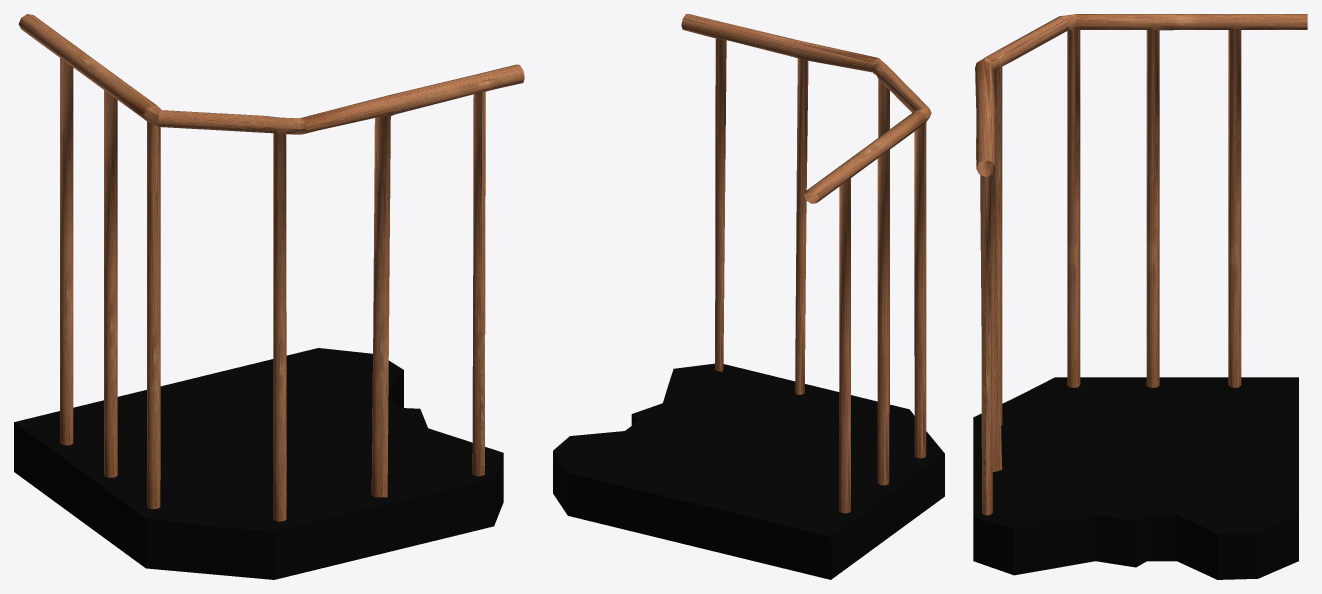
Rendered from balconIzquierdo.FBX.
The picture shows the model from 3 angles, left to right: view 1: azimuth 30°, elevation 25°; view 2: azimuth 150°, elevation 25°; view 3: azimuth 270°, elevation 25°; orthographic projection. The views are drawn at different scales.
Parts seen in each view (by area): view 1: Terraza3; view 2: Terraza3; view 3: Terraza3.
Part boxes in pixels (bbox=[...]): Terraza3: bbox=[14, 14, 524, 579]; Terraza3: bbox=[553, 14, 944, 579]; Terraza3: bbox=[973, 14, 1307, 579].
Bounding box in the file's own units: 114 × 141 × 103.
